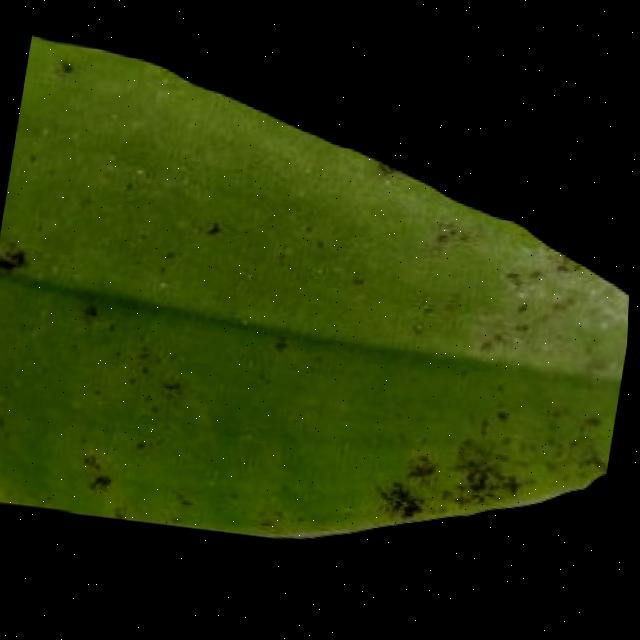mite: (55, 196, 232, 512), (405, 453, 442, 484), (464, 465, 495, 497), (87, 473, 117, 494), (500, 474, 523, 498), (161, 377, 184, 395), (203, 220, 223, 238), (493, 409, 513, 424)
spots: (0, 28, 637, 585)
